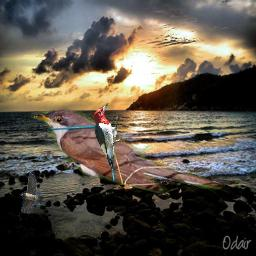Cuckoo: (30, 104, 228, 200)
Swallow: (21, 172, 43, 213)
Woodpecker: (93, 103, 122, 173)
